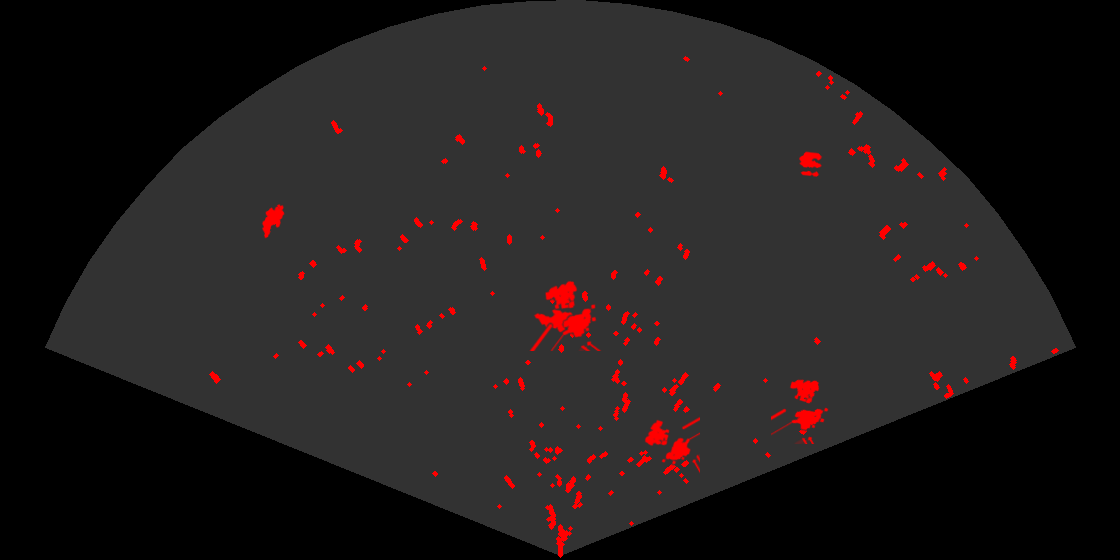AUV: (532, 307, 580, 334), (260, 202, 286, 240)
ball: (798, 150, 824, 178)
cage: (528, 279, 603, 351), (771, 378, 830, 444), (643, 415, 700, 475)
